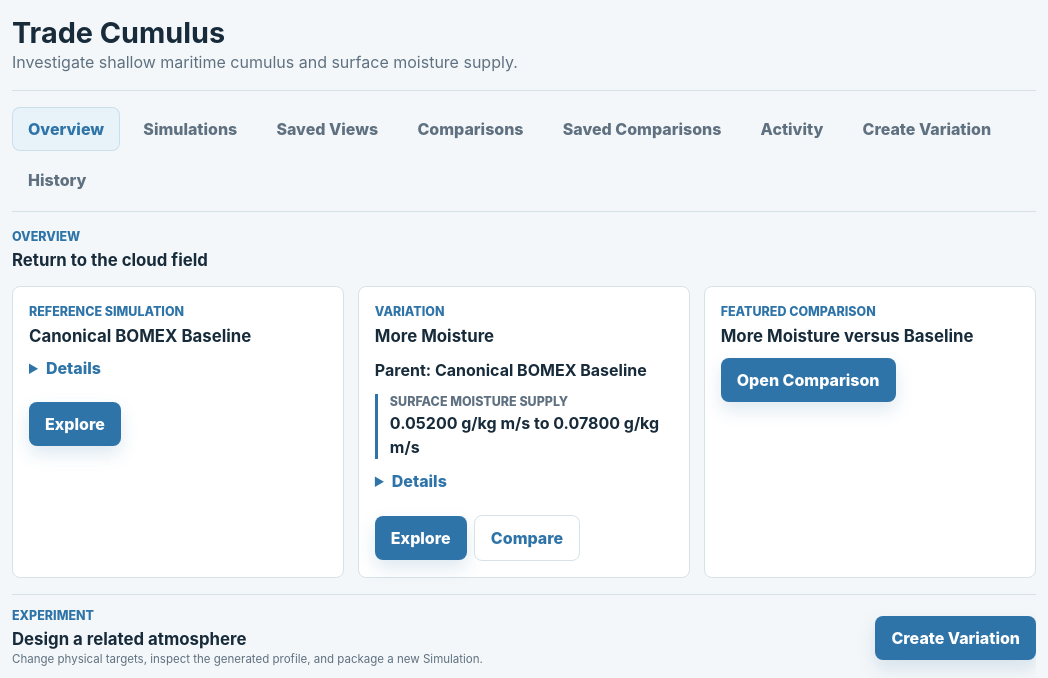
Test: TradeCumulusWorld › keeps runtime integrity secondary and displays moisture flux in g/kg m/s
The width and height of the screenshot is (1048, 678).
Expected: the heading "Trade Cumulus" is shown, [12,15,225,50]
Click the button "Simulations" at [190, 129], box [127,107,253,151]
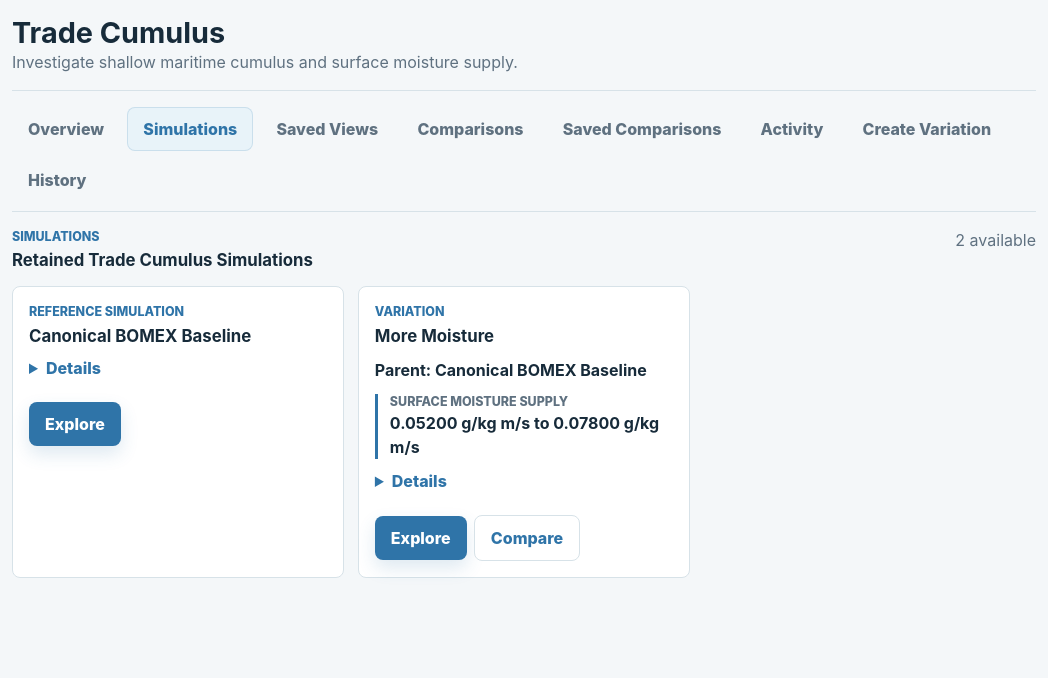
Expected: the element named "More Moisture Simulation" shows "0.05200 g/kg m/s to 0.07800 g/kg m/s", [390,413,659,457]
Expected: the text "Caveated output" is not shown
Click the heading "Details" below "0.05200 g/kg m/s to 0.07800 g/kg m/s" at [419, 481], box [392,471,447,491]
(page scrolled)
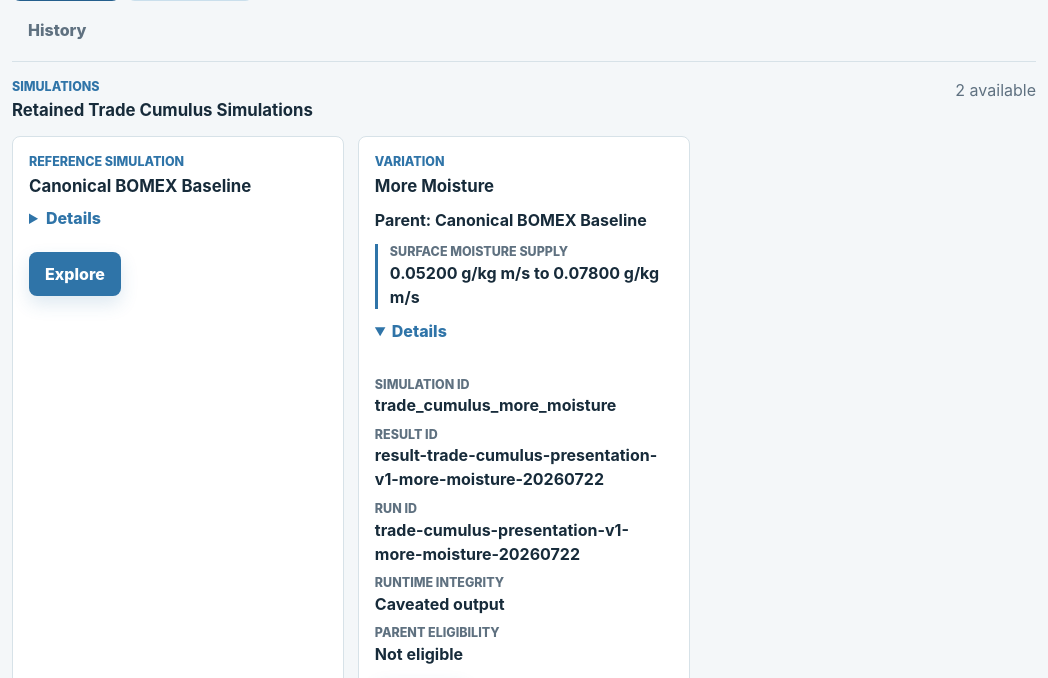
Expected: the text "Runtime integrity" is shown, [375,575,504,590]
Expected: the text "Caveated output" is shown, [375,594,505,614]
